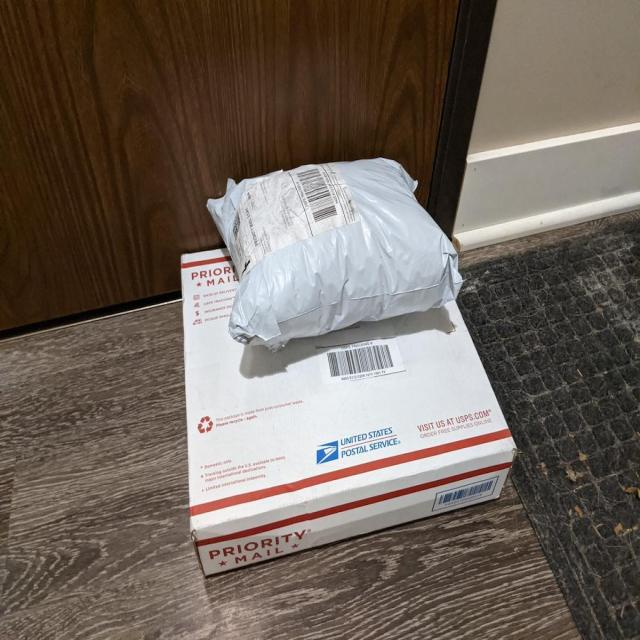box: (207, 156, 462, 348)
